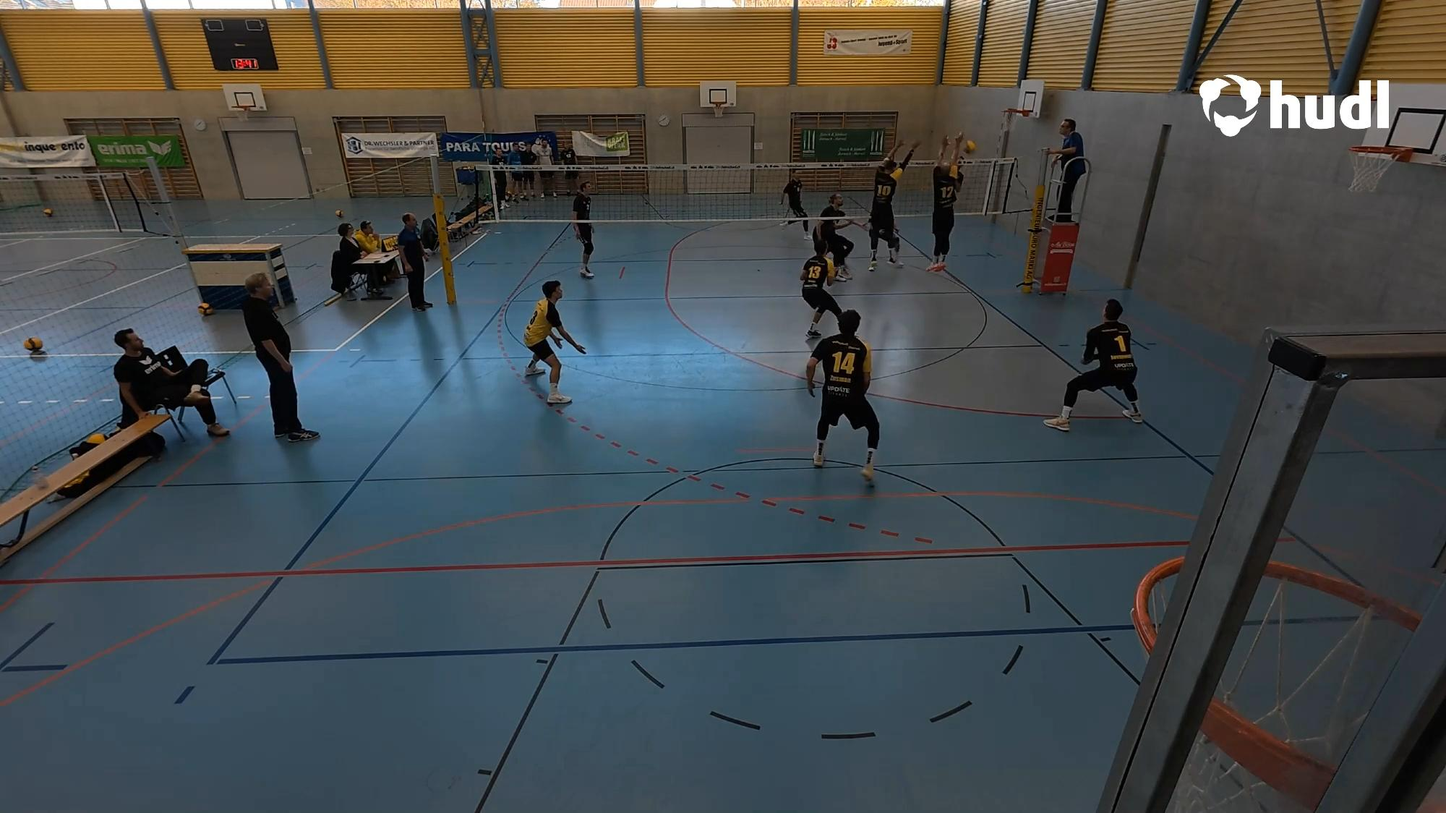Attack: (954, 135, 967, 199)
Block: (869, 129, 917, 276), (928, 134, 972, 271)
Player: (1043, 298, 1142, 432), (810, 308, 879, 479), (523, 280, 583, 405), (801, 239, 840, 358), (816, 192, 855, 285), (571, 183, 599, 281), (780, 171, 808, 233)
ball: (961, 136, 978, 153)
